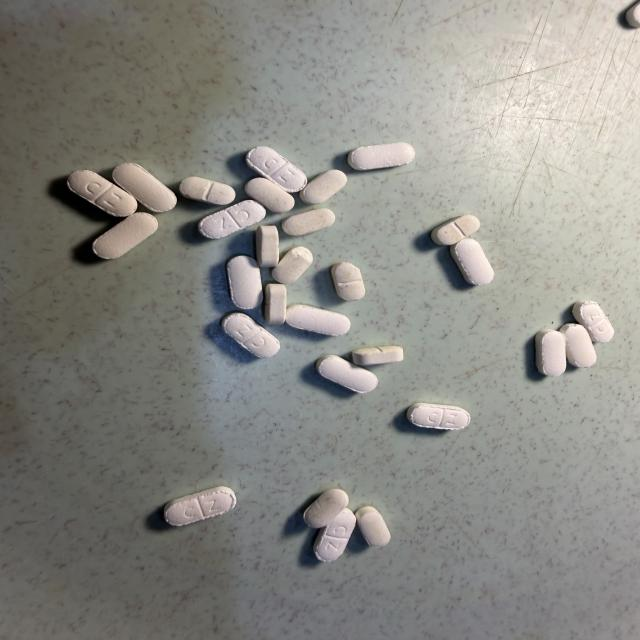pill: (68, 170, 137, 216), (112, 163, 176, 212), (93, 213, 157, 259), (164, 487, 236, 526), (246, 147, 307, 192), (221, 313, 280, 357), (199, 200, 265, 238), (316, 355, 377, 393), (314, 509, 356, 561), (450, 238, 494, 285), (286, 305, 350, 335), (227, 256, 263, 309), (348, 143, 415, 170), (304, 489, 348, 528), (245, 178, 294, 213), (573, 301, 614, 342), (407, 403, 470, 429), (300, 170, 347, 204), (179, 177, 235, 205), (560, 324, 596, 367), (272, 247, 313, 283), (431, 215, 480, 245), (355, 506, 390, 547), (536, 329, 566, 376), (282, 209, 335, 235), (332, 263, 365, 300), (352, 346, 403, 365), (256, 226, 279, 267), (264, 284, 286, 324), (626, 3, 639, 27)
